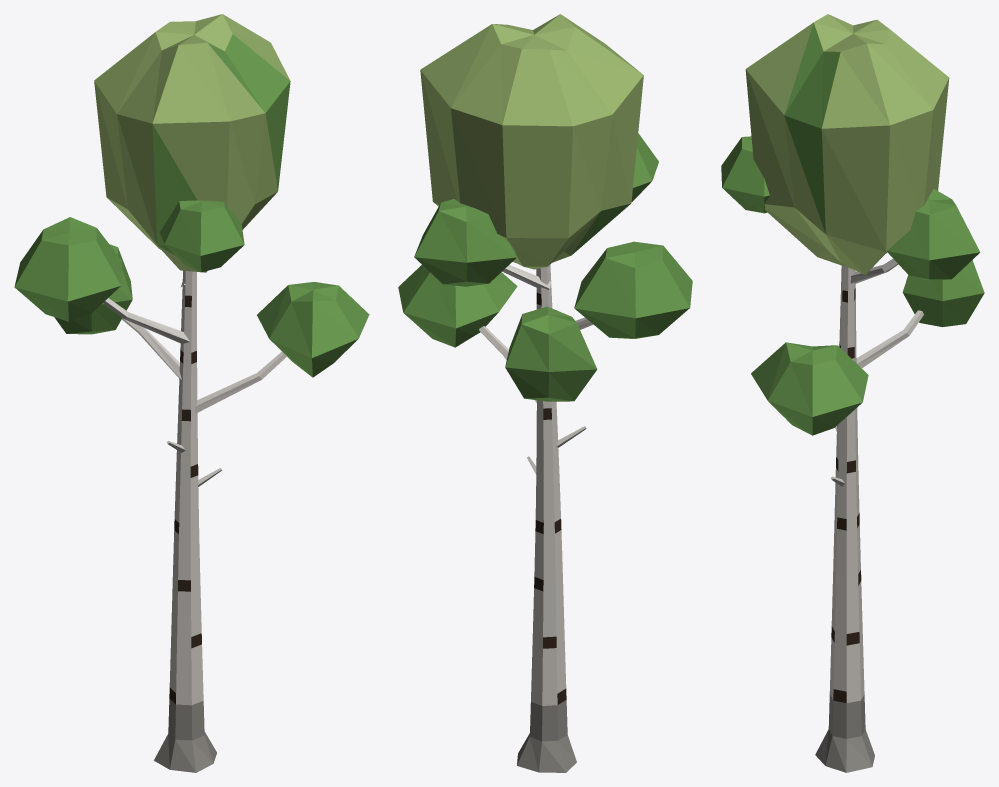
Rendered from birch-tree-181b33.glb.
3 renders of one model, left to right at view 1: azimuth 30°, elevation 25°; view 2: azimuth 150°, elevation 25°; view 3: azimuth 270°, elevation 25°, orthographic.
Parts seen in each view (by area): view 1: birch-tree-mesh; view 2: birch-tree-mesh; view 3: birch-tree-mesh.
Part boxes in pixels (x1,y1,x2,y2): birch-tree-mesh: [14, 14, 369, 772]; birch-tree-mesh: [398, 14, 692, 772]; birch-tree-mesh: [721, 14, 984, 772].
Size of the model in its own units: 3.01 by 6.49 by 2.1.
